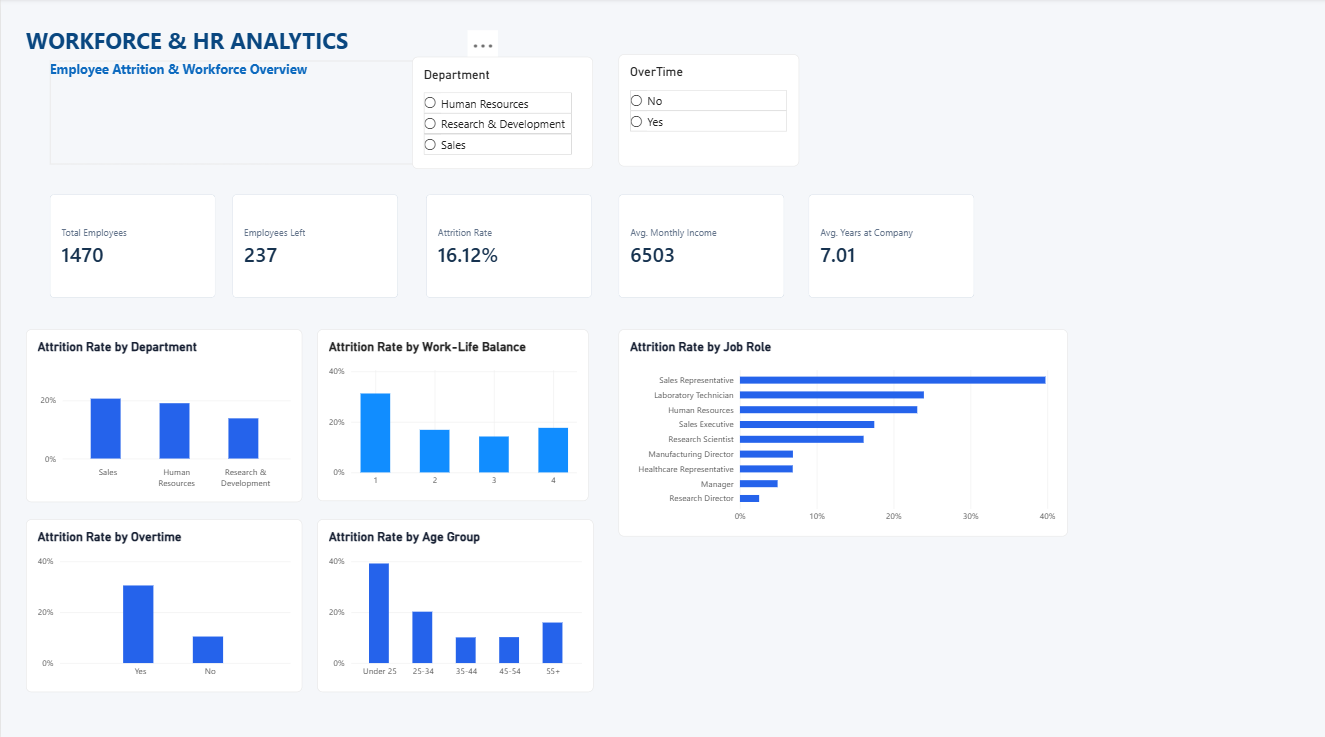

The dashboard page shown, as its layout file describes it:
{"tool":"powerbi","page":{"name":"Page 1","canvas":[1920,1080],"ordinal":0},"visuals":[{"type":"textbox","box":[37,39.1,650.4,65.9],"z":0},{"type":"textbox","box":[70,90.6,650,150],"z":1000},{"type":"cardVisual","fields":{"Data":["hr_employee_cleaned.Total Employees"]},"box":[70,284,240.8,150.3],"z":2000},{"type":"cardVisual","fields":{"Data":["hr_employee_cleaned.Employees Left"]},"box":[335.5,284,240.8,150.3],"z":3000},{"type":"cardVisual","fields":{"Data":["hr_employee_cleaned.Observed Attrition Rate"]},"box":[615.4,284,240.8,150.3],"z":4000},{"type":"cardVisual","fields":{"Data":["hr_employee_cleaned.Average Monthly Income"]},"box":[893.3,284,240.8,150.3],"z":5000},{"type":"cardVisual","fields":{"Data":["hr_employee_cleaned.Average Years at Company"]},"box":[1169.1,284,240.8,150.3],"z":6000},{"type":"clusteredColumnChart","title":"Attrition Rate by Department","fields":{"Category":["hr_employee_cleaned.Department"],"Y":["hr_employee_cleaned.Observed Attrition Rate"]},"box":[37,479.6,400,250],"z":7000},{"type":"listSlicer","fields":{"Values":["hr_employee_cleaned.Department"]},"box":[594.9,84.4,261.4,162.6],"z":8000},{"type":"listSlicer","fields":{"Values":["hr_employee_cleaned.OverTime"]},"box":[893.3,82.3,261.4,162.6],"z":9000},{"type":"clusteredBarChart","title":"Attrition Rate by Job Role","fields":{"Category":["hr_employee_cleaned.JobRole"],"Y":["hr_employee_cleaned.Observed Attrition Rate"]},"box":[893.3,479.6,650,300],"z":10000},{"type":"clusteredColumnChart","title":"Attrition Rate by Overtime","fields":{"Category":["hr_employee_cleaned.OverTime"],"Y":["hr_employee_cleaned.Observed Attrition Rate"]},"box":[37,755.4,400,250],"z":11000},{"type":"clusteredColumnChart","title":"Attrition Rate by Age Group","fields":{"Category":["hr_employee_cleaned.Age Group"],"Y":["hr_employee_cleaned.Observed Attrition Rate"]},"box":[456.9,755.4,400,250],"z":12000},{"type":"clusteredColumnChart","title":"Attrition Rate by Work-Life Balance","fields":{"Category":["hr_employee_cleaned.WorkLifeBalance"],"Y":["hr_employee_cleaned.Observed Attrition Rate"]},"box":[456.9,479.6,393.1,249.1],"z":13000}]}

Visuals, with their boxes in screenshot pixels (x1, y1, x2, y2), scaled from the page's 1920x1080 canvas onto the 1325x737 screenshot:
textbox: box=[26, 27, 474, 72]
textbox: box=[48, 62, 497, 164]
cardVisual - hr_employee_cleaned.Total Employees: box=[48, 194, 214, 296]
cardVisual - hr_employee_cleaned.Employees Left: box=[232, 194, 398, 296]
cardVisual - hr_employee_cleaned.Observed Attrition Rate: box=[425, 194, 591, 296]
cardVisual - hr_employee_cleaned.Average Monthly Income: box=[616, 194, 783, 296]
cardVisual - hr_employee_cleaned.Average Years at Company: box=[807, 194, 973, 296]
"Attrition Rate by Department" clusteredColumnChart: box=[26, 327, 302, 498]
listSlicer - hr_employee_cleaned.Department: box=[411, 58, 591, 169]
listSlicer - hr_employee_cleaned.OverTime: box=[616, 56, 797, 167]
"Attrition Rate by Job Role" clusteredBarChart: box=[616, 327, 1065, 532]
"Attrition Rate by Overtime" clusteredColumnChart: box=[26, 515, 302, 686]
"Attrition Rate by Age Group" clusteredColumnChart: box=[315, 515, 591, 686]
"Attrition Rate by Work-Life Balance" clusteredColumnChart: box=[315, 327, 587, 497]
